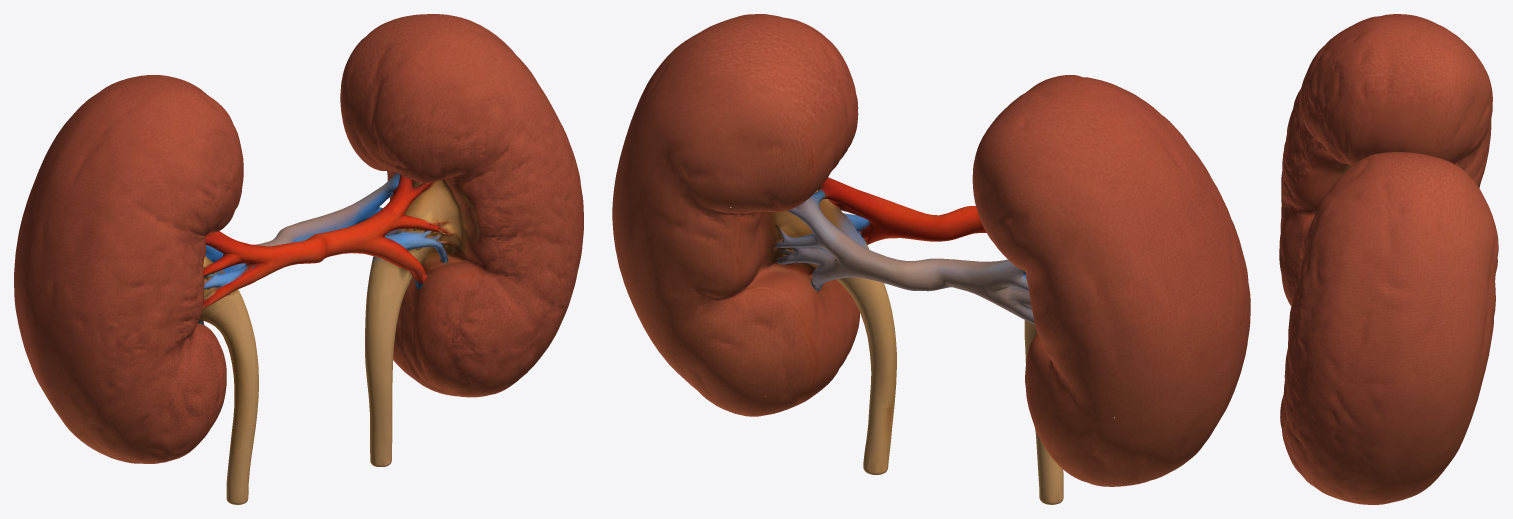
The model's file is urinary.glb.
3 views of the same model, side by side, from view 1: azimuth 30°, elevation 25°; view 2: azimuth 150°, elevation 25°; view 3: azimuth 270°, elevation 25° (orthographic). The views are drawn at different scales.
Parts seen in each view (by area): view 1: tripo_node_e5de9656-5b36-4996-8f10-3690a202b494; view 2: tripo_node_e5de9656-5b36-4996-8f10-3690a202b494; view 3: tripo_node_e5de9656-5b36-4996-8f10-3690a202b494.
Part boxes in pixels (<box>): tripo_node_e5de9656-5b36-4996-8f10-3690a202b494: <box>14,14,583,504</box>; tripo_node_e5de9656-5b36-4996-8f10-3690a202b494: <box>612,14,1250,504</box>; tripo_node_e5de9656-5b36-4996-8f10-3690a202b494: <box>1279,14,1498,504</box>.
Size of the model in its own units: 0.9793 by 0.7198 by 0.3717.
1 material, 1 textured.
